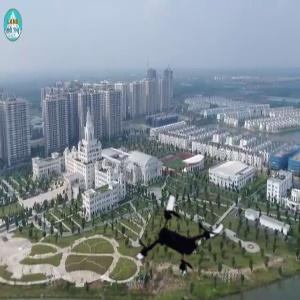drone: (132, 186, 228, 282)
